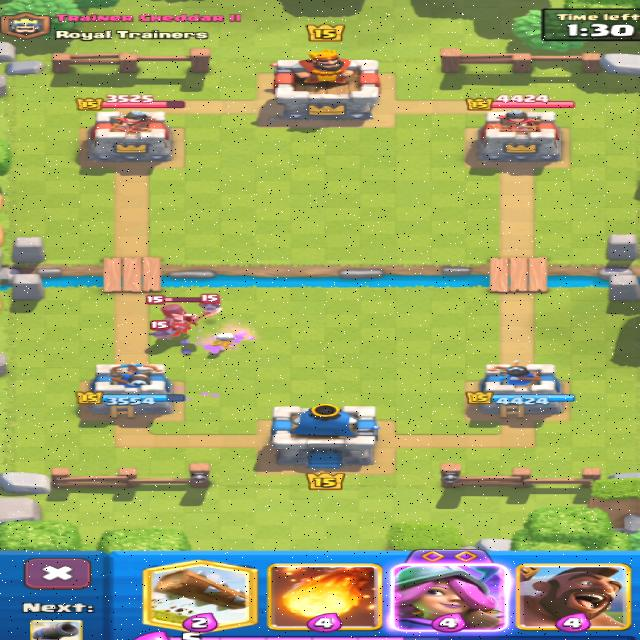Enemy-Bat: (199, 293, 220, 313), (150, 320, 170, 337)
Enemy-KingTower: (273, 50, 379, 119)
Enemy-NightWitch: (147, 295, 220, 337)
Enemy-PrincessTower: (477, 110, 561, 166), (87, 112, 171, 162)
Player-KingTower: (271, 403, 379, 468)
Player-PrincessTower: (76, 363, 184, 418), (469, 361, 574, 417)
Player-Skeleton: (211, 333, 234, 349)
